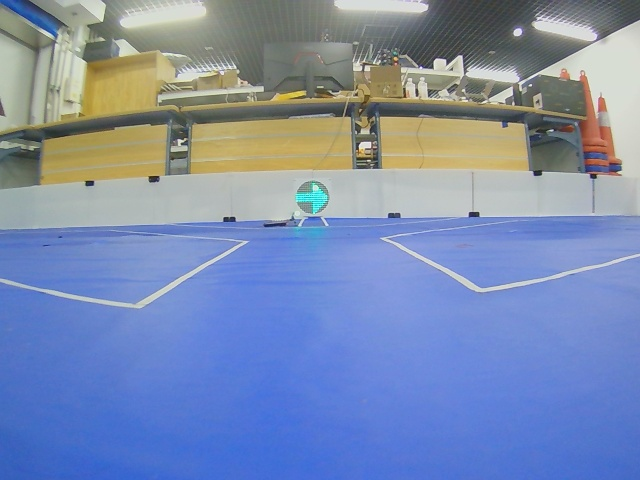right_green: (295, 181, 330, 215)
